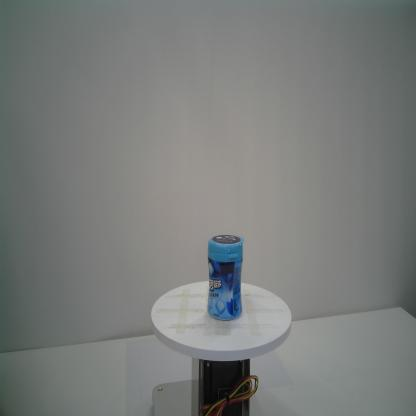Gum: (206, 234, 245, 321)
